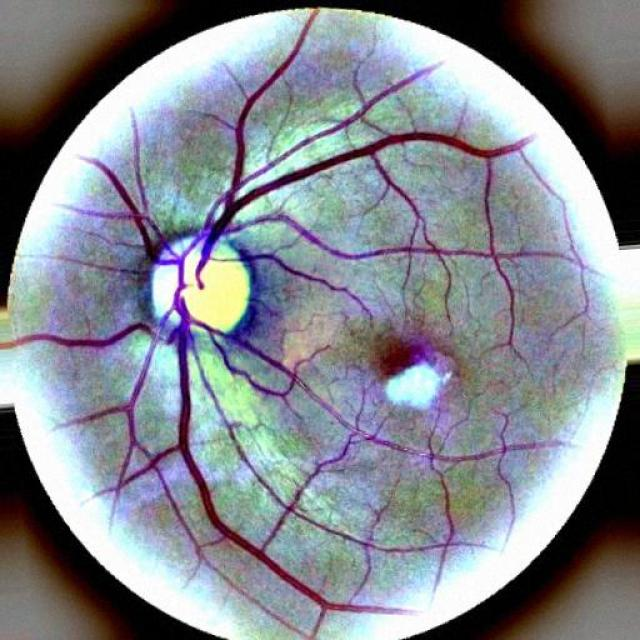Macula: (380, 340, 452, 409)
Nerves: (0, 10, 549, 618)
Optic Disk: (152, 229, 251, 339)
